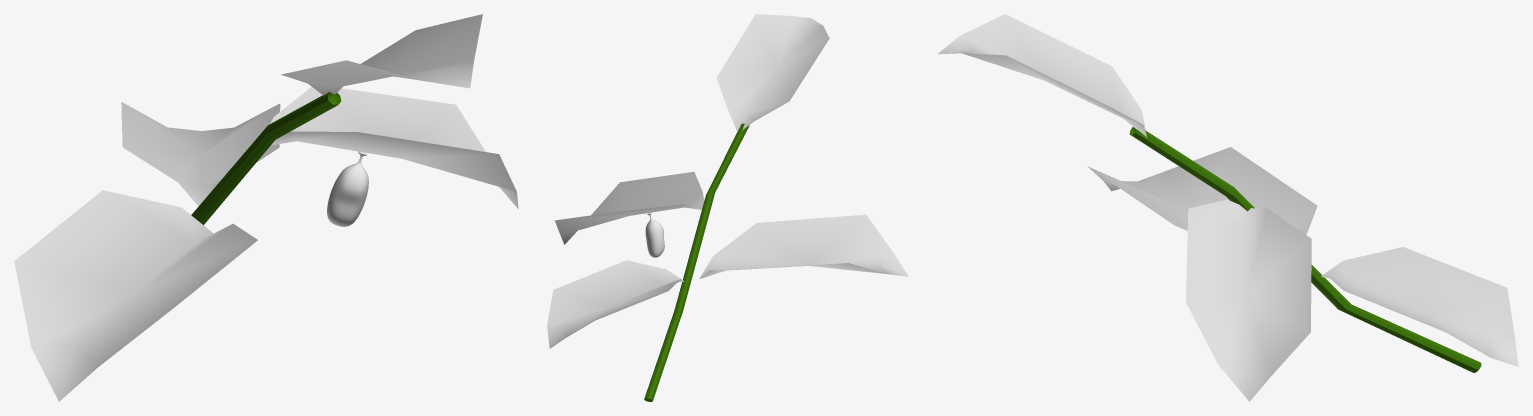
The model's file is Tahap4.fbx.
The picture shows the model from 3 angles, left to right: view 1: azimuth 30°, elevation 25°; view 2: azimuth 150°, elevation 25°; view 3: azimuth 270°, elevation 25°; orthographic projection. The views are drawn at different scales.
Visible parts, largest first — view 1: pPlane2_lambert1_0.001, pPlane3_lambert1_0.001, pPlane1_lambert1_0.002, pPlane1_lambert1_0.003, pCylinder1_lambert2_0.001, pCube1_lambert7_0.001; view 2: pPlane2_lambert1_0.001, pPlane1_lambert1_0.003, pPlane1_lambert1_0.002, pPlane3_lambert1_0.001, pCylinder1_lambert2_0.001, pCube1_lambert7_0.001; view 3: pPlane3_lambert1_0.001, pPlane1_lambert1_0.002, pPlane1_lambert1_0.003, pPlane2_lambert1_0.001, pCylinder1_lambert2_0.001.
Boxes of the visible parts, x1,y1,x2,y2 form: pPlane2_lambert1_0.001: (14, 190, 257, 401); pPlane3_lambert1_0.001: (270, 87, 518, 209); pPlane1_lambert1_0.002: (121, 102, 280, 206); pPlane1_lambert1_0.003: (281, 14, 482, 95); pCylinder1_lambert2_0.001: (191, 92, 341, 225); pCube1_lambert7_0.001: (327, 151, 368, 226); pPlane2_lambert1_0.001: (699, 214, 908, 279); pPlane1_lambert1_0.003: (716, 14, 829, 131); pPlane1_lambert1_0.002: (547, 260, 684, 348); pPlane3_lambert1_0.001: (554, 171, 704, 244); pCylinder1_lambert2_0.001: (644, 123, 749, 401); pCube1_lambert7_0.001: (645, 212, 664, 257); pPlane3_lambert1_0.001: (1186, 199, 1311, 401); pPlane1_lambert1_0.002: (1321, 247, 1518, 366); pPlane1_lambert1_0.003: (937, 14, 1147, 137); pPlane2_lambert1_0.001: (1087, 147, 1317, 234); pCylinder1_lambert2_0.001: (1129, 127, 1481, 372).
Size of the model in its own units: 16.02 by 13.1 by 19.3.
